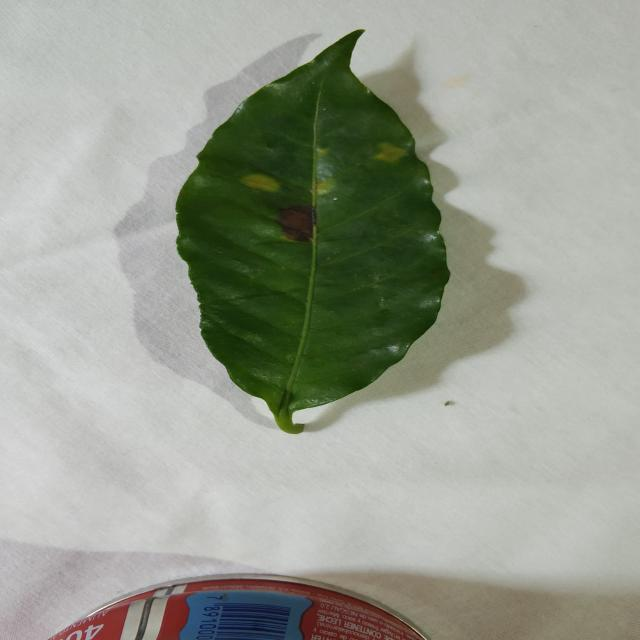Enfermedad-Roya: (174, 31, 451, 436)
